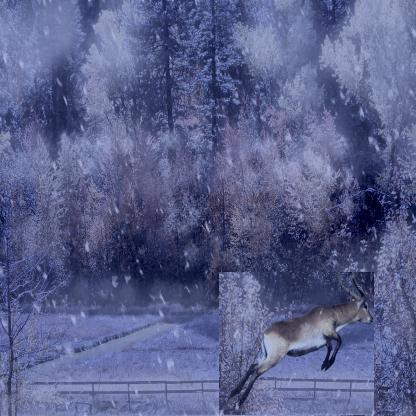Deer: (219, 272, 374, 415)
